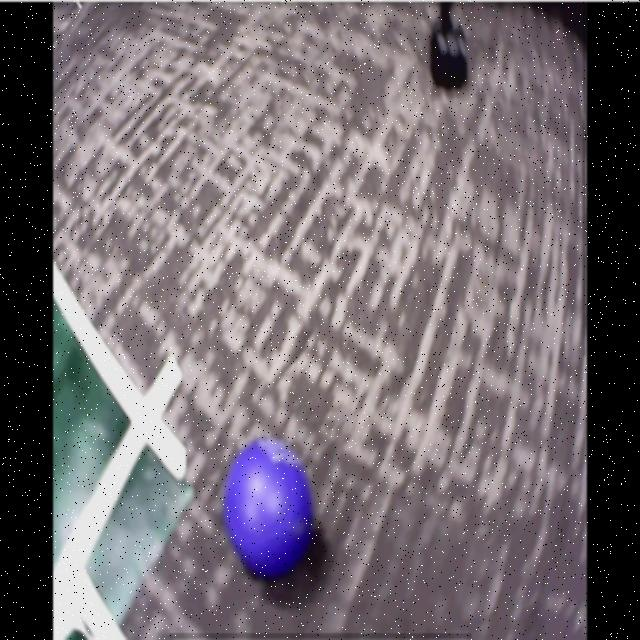ball: (226, 436, 315, 584)
